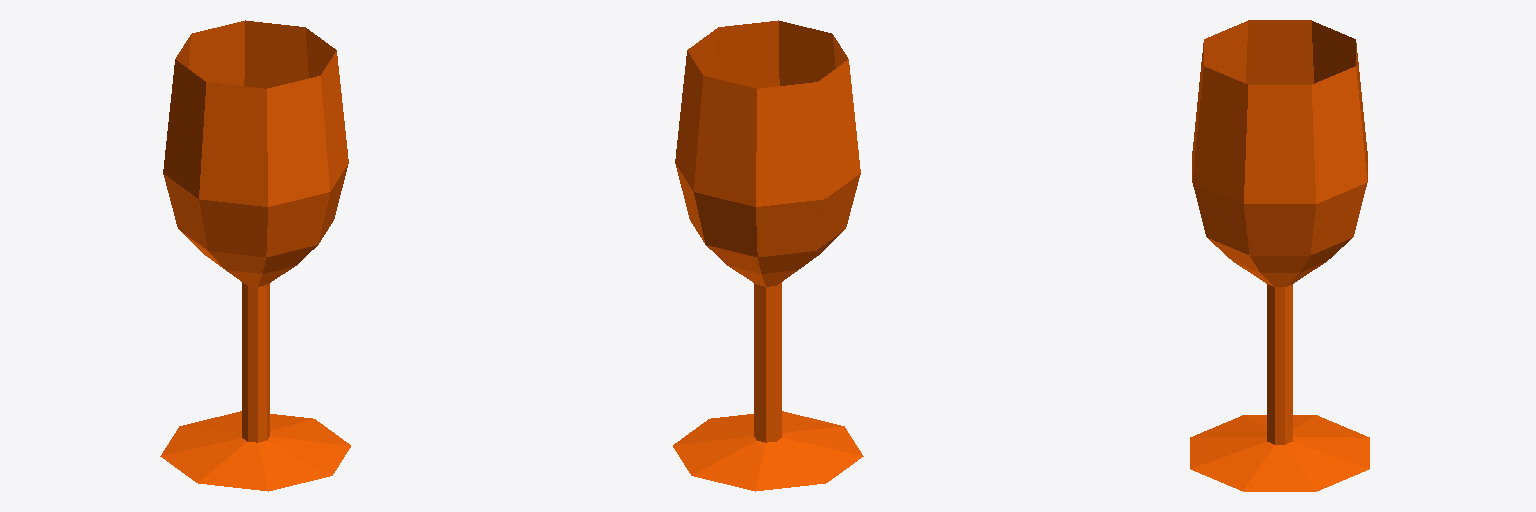
robot.urdf — WineGlass_ec742ff34906e5e890234001fde0a408:
<?xml version="1.0" ?>
<robot name="WineGlass_ec742ff34906e5e890234001fde0a408">
   <material name="obj_color">
      <color rgba="1.0 0.423529411765 0.0392156862745 1.0"/>
   </material>
   <link name="top">
      <inertial>
         <origin rpy="0.0004944552554069418 0.001632785138527389 0.001632785866258953" xyz="3.764551691979056e-05 -0.0001820000000000002 0.02592968348092305"/>
         <mass value="0.6815071288742443"/>
         <inertia ixx="0.001632785866255954" ixy="3.404042091111776e-21" ixz="1.847836441409852e-09" iyy="0.001632785138527389" iyz="-2.837229501056885e-20" izz="0.0004944552554099409"/>
      </inertial>
      <visual>
         <origin rpy="0 0 0" xyz="0 0 0"/>
         <geometry>
            <mesh filename="top_watertight_tiny.stl" scale="1 1 1"/>
         </geometry>
         <material name="obj_color"/>
      </visual>
      <collision>
         <origin rpy="0 0 0" xyz="0 0 0"/>
         <geometry>
            <mesh filename="top_watertight_tiny.obj" scale="1 1 1"/>
         </geometry>
      </collision>
   </link>
   <link name="bottom">
      <inertial>
         <origin rpy="6.006013958356662e-06 6.006038508030958e-06 1.189797656925988e-05" xyz="3.792835382309016e-05 -0.0001820000000000019 -0.1184943689022922"/>
         <mass value="0.01912031863537557"/>
         <inertia ixx="6.006013958356795e-06" ixy="-5.294077089374419e-23" ixz="-8.86439587505084e-13" iyy="6.006038508030956e-06" iyz="-8.613018128208401e-22" izz="1.189797656925975e-05"/>
      </inertial>
      <visual>
         <origin rpy="0 0 0" xyz="0 0 0"/>
         <geometry>
            <mesh filename="bottom_watertight_tiny.stl" scale="1 1 1"/>
         </geometry>
         <material name="obj_color"/>
      </visual>
      <collision>
         <origin rpy="0 0 0" xyz="0 0 0"/>
         <geometry>
            <mesh filename="bottom_watertight_tiny.obj" scale="1 1 1"/>
         </geometry>
      </collision>
   </link>
   <link name="world"/>
   <joint name="world_to_base" type="fixed">
      <origin xyz="0 0 0"/>
      <axis xyz="0 0 0"/>
      <parent link="world"/>
      <child link="bottom"/>
   </joint>
   <joint name="rotation" type="revolute">
      <origin xyz="0 0 0"/>
      <axis xyz="0 0 -1"/>
      <parent link="bottom"/>
      <child link="top"/>
      <dynamics damping="1.0" friction="1.0"/>
      <limit effort="0.1" velocity="0.1" lower="0" upper="0.001"/>
   </joint>
</robot>

--- Render facts (derived) ---
3 views of the same robot in one strip: view 1: azimuth 30°, elevation 25°; view 2: azimuth 150°, elevation 25°; view 3: azimuth 270°, elevation 25° (orthographic).
Robot: WineGlass_ec742ff34906e5e890234001fde0a408 — 3 links, 2 joints (1 revolute, 1 fixed); root link world; default pose: all joints at 0.
Links seen in each view (by area): view 1: top, bottom; view 2: top, bottom; view 3: top, bottom.
Boxes of the visible links, bbox=[...] form: top: bbox=[163, 20, 348, 442]; bottom: bbox=[160, 411, 350, 491]; top: bbox=[675, 20, 860, 442]; bottom: bbox=[673, 411, 863, 491]; top: bbox=[1192, 20, 1367, 444]; bottom: bbox=[1190, 415, 1369, 491].
Size in the robot's own frame: 0.0885 by 0.0885 by 0.2171 metres.
2 mesh visuals loaded from 2 distinct referenced files (2 binary STL).